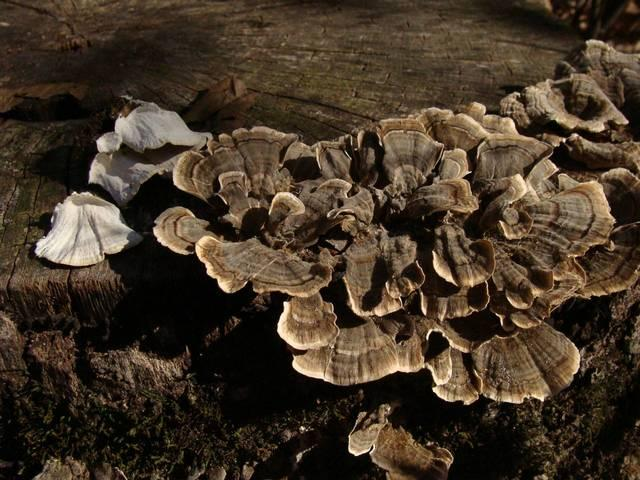Non-edible Mushroom: (34, 40, 638, 408), (33, 189, 142, 268)
